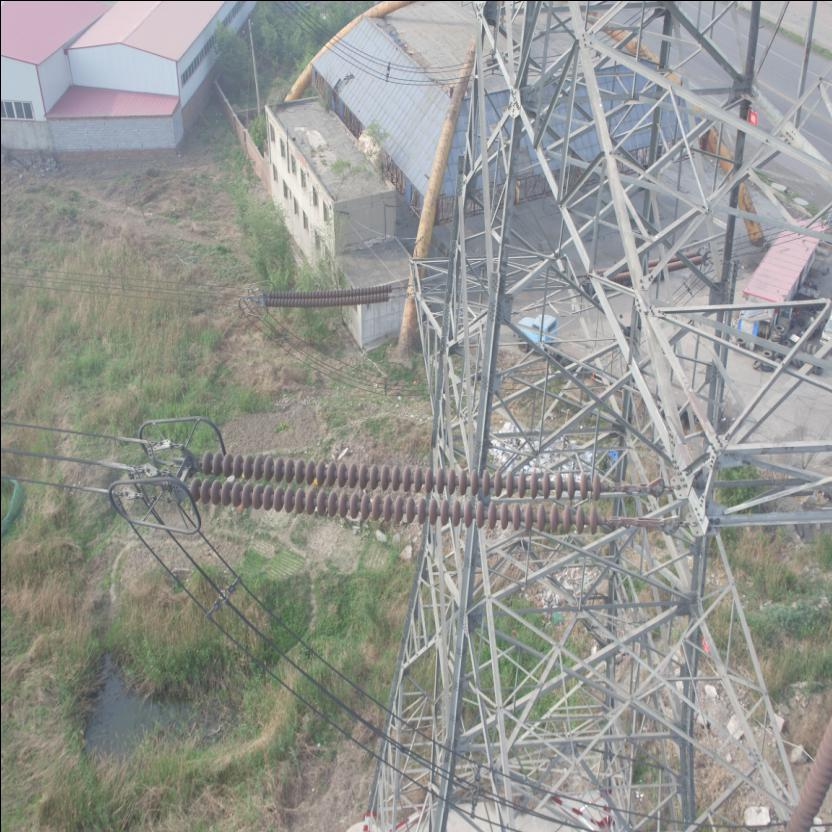insulator: (182, 440, 627, 534), (259, 278, 401, 308)
